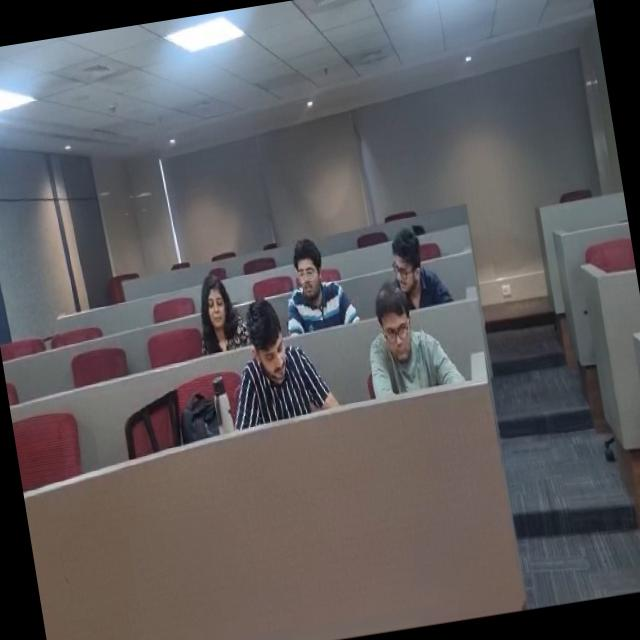cheating: (268, 232, 364, 341), (378, 210, 452, 310), (183, 257, 250, 354)
non-cheating: (226, 292, 316, 428), (352, 280, 438, 415)
